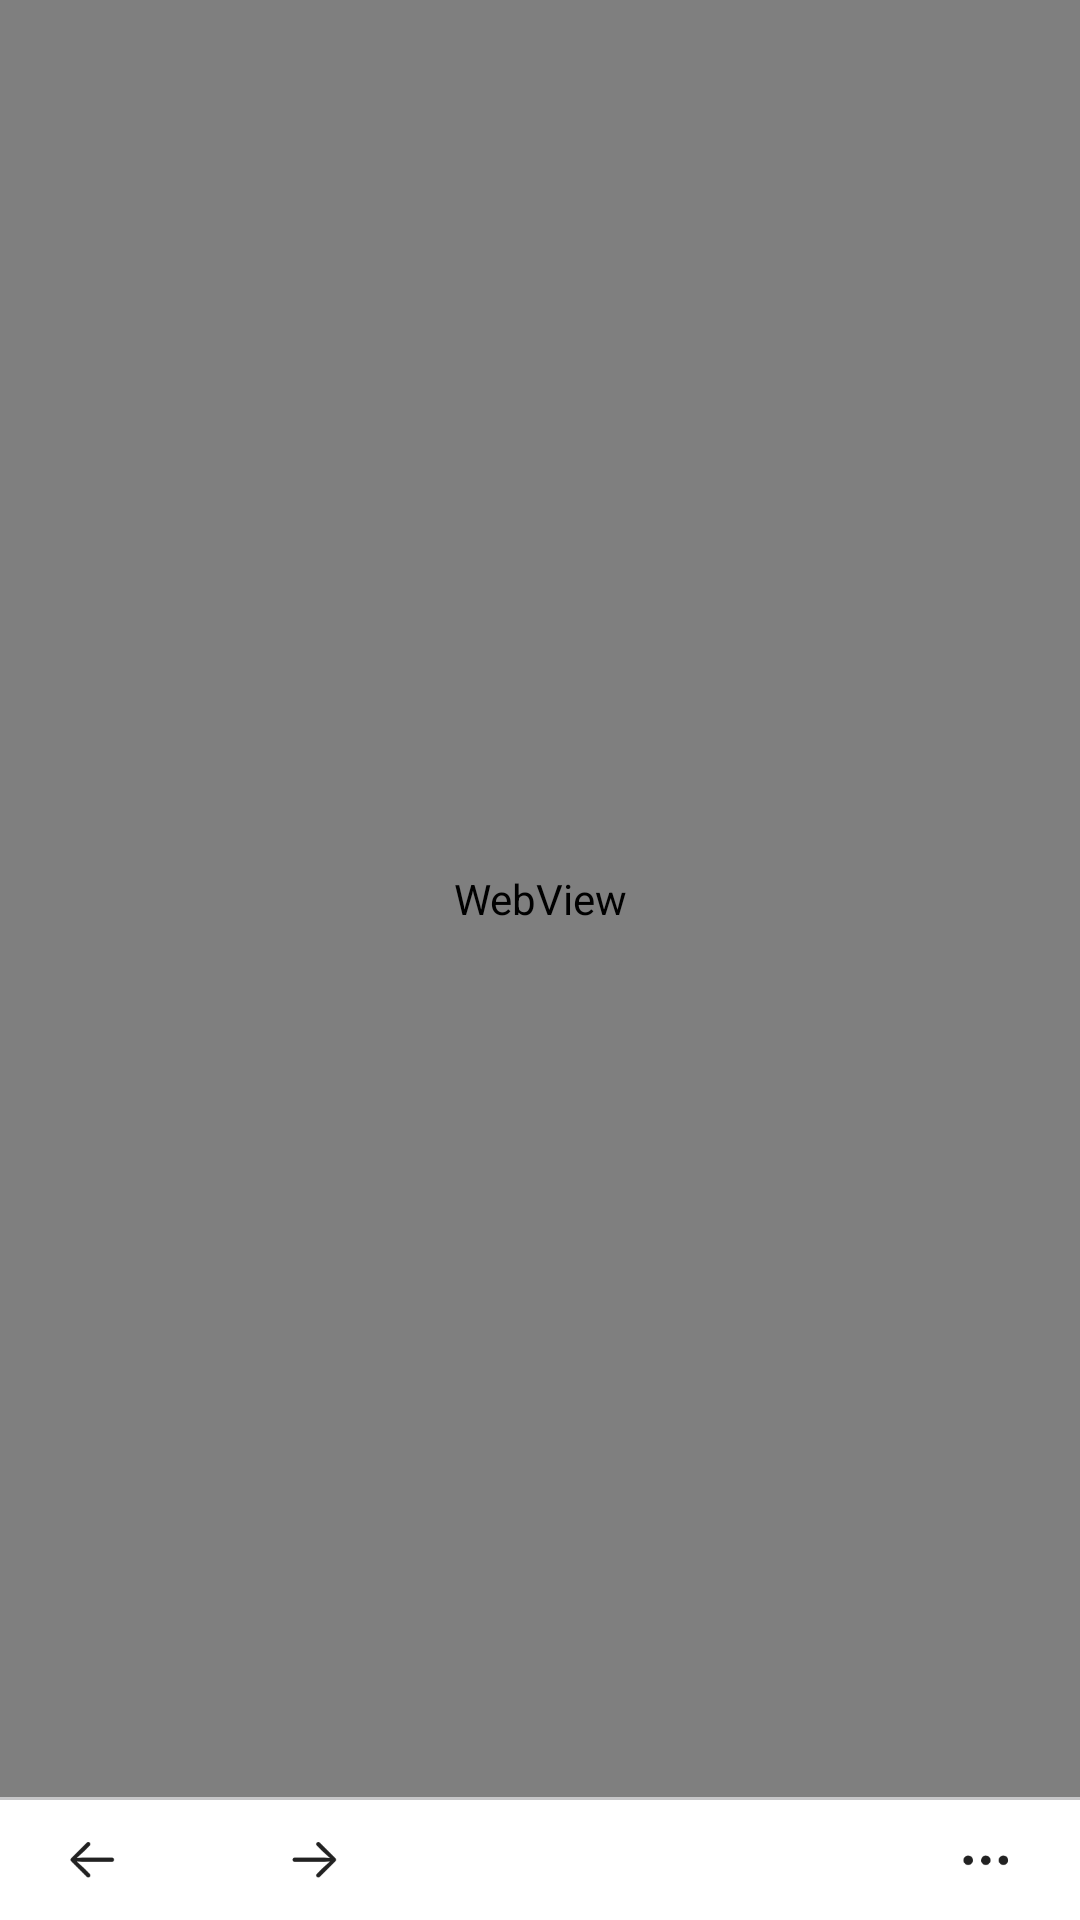

Icons on this 1080x1920 Android screen, each with the point to tap as (x,y):
arrow left: (92,1860)
arrow right: (314,1860)
ellipsis: (985,1860)
